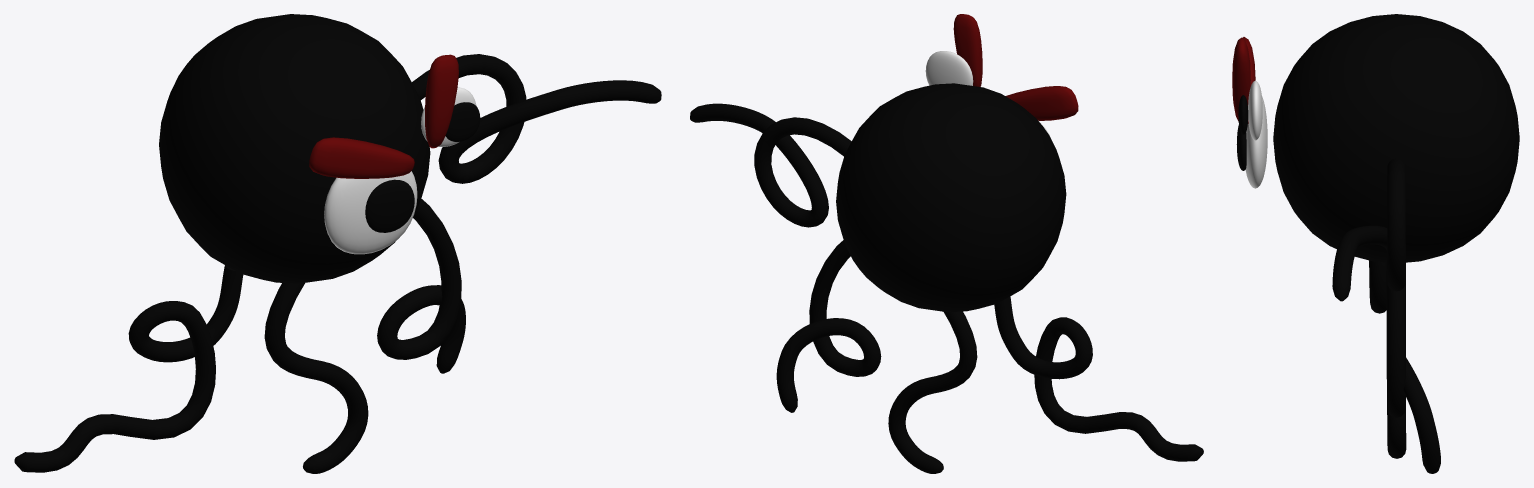
File: spiderguy.fbx
3 renders of one model, left to right at view 1: azimuth 30°, elevation 25°; view 2: azimuth 150°, elevation 25°; view 3: azimuth 270°, elevation 25°, orthographic. The views are drawn at different scales.
Parts seen in each view (by area): view 1: body.001, leg 4, leg 1, leg 2, leg 3, eye white.002, eyebrow, eyebrow.001, eye black.002, eye black.003; view 2: body.001, leg 4, leg 1, leg 2, leg 3, eyebrow, eyebrow.001, eye white.003; view 3: body.001, leg 2, leg 1, eye white.002, eyebrow.001, leg 3, leg 4, eye white.003, eye black.002, eye black.003.
Part boxes in pixels (left/top/right/bottom): body.001: left=159, top=14, right=430, bottom=283; leg 4: left=14, top=265, right=243, bottom=472; leg 1: left=412, top=54, right=661, bottom=183; leg 2: left=377, top=199, right=465, bottom=373; leg 3: left=264, top=283, right=368, bottom=473; eye white.002: left=324, top=171, right=417, bottom=254; eyebrow: left=309, top=137, right=414, bottom=178; eyebrow.001: left=425, top=54, right=458, bottom=148; eye black.002: left=365, top=179, right=414, bottom=232; eye black.003: left=445, top=102, right=480, bottom=141; body.001: left=836, top=83, right=1066, bottom=312; leg 4: left=994, top=296, right=1203, bottom=461; leg 1: left=690, top=103, right=851, bottom=227; leg 2: left=776, top=240, right=881, bottom=412; leg 3: left=888, top=311, right=977, bottom=473; eyebrow: left=1005, top=86, right=1078, bottom=120; eyebrow.001: left=953, top=14, right=982, bottom=86; eye white.003: left=925, top=51, right=973, bottom=85; body.001: left=1273, top=14, right=1519, bottom=262; leg 2: left=1387, top=244, right=1440, bottom=473; leg 1: left=1332, top=158, right=1405, bottom=301; eye white.002: left=1245, top=96, right=1267, bottom=188; eyebrow.001: left=1232, top=37, right=1250, bottom=117; leg 3: left=1386, top=262, right=1406, bottom=458; leg 4: left=1369, top=260, right=1386, bottom=313; eye white.003: left=1248, top=80, right=1262, bottom=140; eye black.002: left=1236, top=125, right=1246, bottom=170; eye black.003: left=1238, top=95, right=1248, bottom=134.
Size of the model in its own units: 114 by 81.57 by 48.96.
